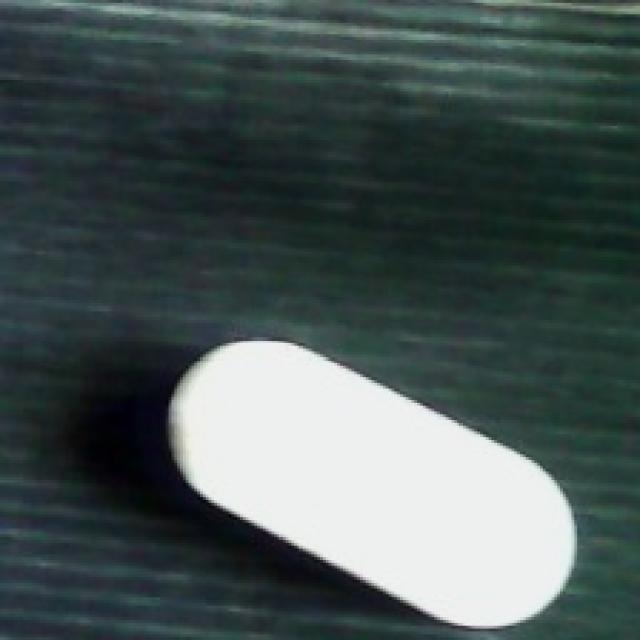no-defect: (163, 332, 577, 631)
